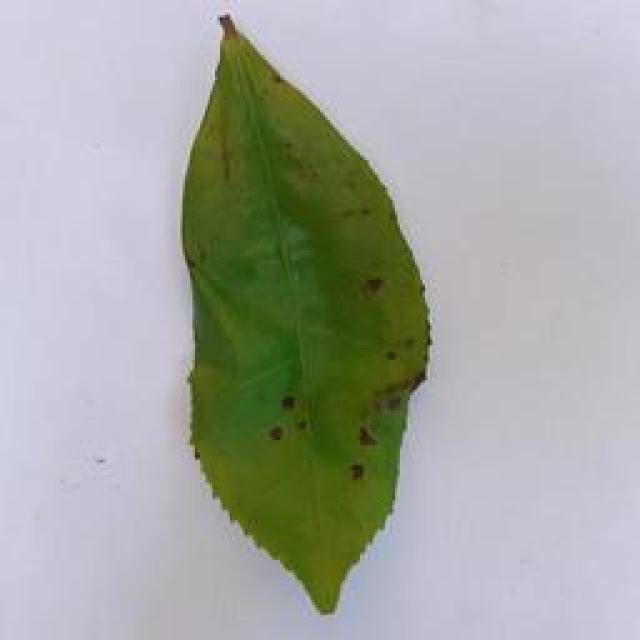Helopeltis: (166, 7, 432, 620)
